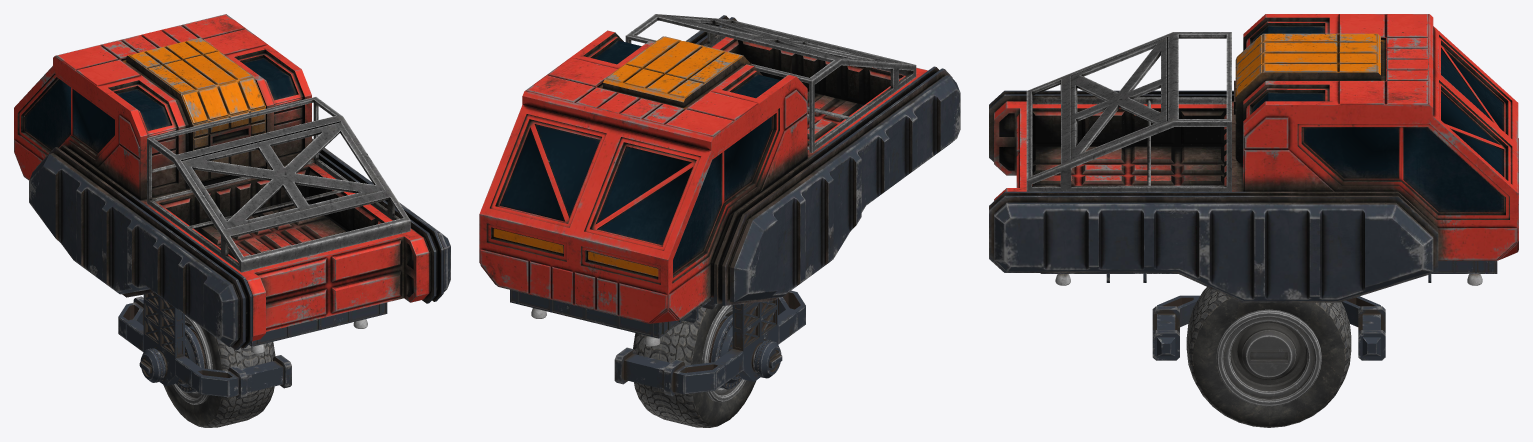
Rendered from uni_truck.glb.
3 renders of one model, left to right at view 1: azimuth 30°, elevation 25°; view 2: azimuth 150°, elevation 25°; view 3: azimuth 270°, elevation 25°, orthographic. The views are drawn at different scales.
Parts seen in each view (by area): view 1: body, bed_rack, super_spindle, wheel_tire_assy.000, frame, wheel_hub_drive_motor_assy.000; view 2: body, super_spindle, bed_rack, wheel_tire_assy.000, frame, wheel_hub_drive_motor_assy.000; view 3: body, wheel_tire_assy.000, bed_rack, super_spindle, frame.
Boxes of the visible parts, x1,y1,x2,y2 form: body: [14, 14, 450, 350]; bed_rack: [147, 97, 410, 272]; super_spindle: [118, 292, 291, 399]; wheel_tire_assy.000: [163, 315, 275, 427]; frame: [249, 302, 387, 346]; wheel_hub_drive_motor_assy.000: [139, 324, 206, 392]; body: [479, 15, 960, 323]; super_spindle: [614, 290, 805, 396]; bed_rack: [625, 14, 916, 152]; wheel_tire_assy.000: [633, 303, 756, 427]; frame: [510, 290, 710, 338]; wheel_hub_drive_motor_assy.000: [709, 314, 782, 389]; body: [989, 14, 1518, 302]; wheel_tire_assy.000: [1186, 287, 1351, 427]; bed_rack: [1026, 32, 1231, 191]; super_spindle: [1152, 295, 1385, 360]; frame: [1040, 261, 1497, 273].
Size of the model in its own units: 8.8 by 12.37 by 16.24.
11 materials, 11 textured.
